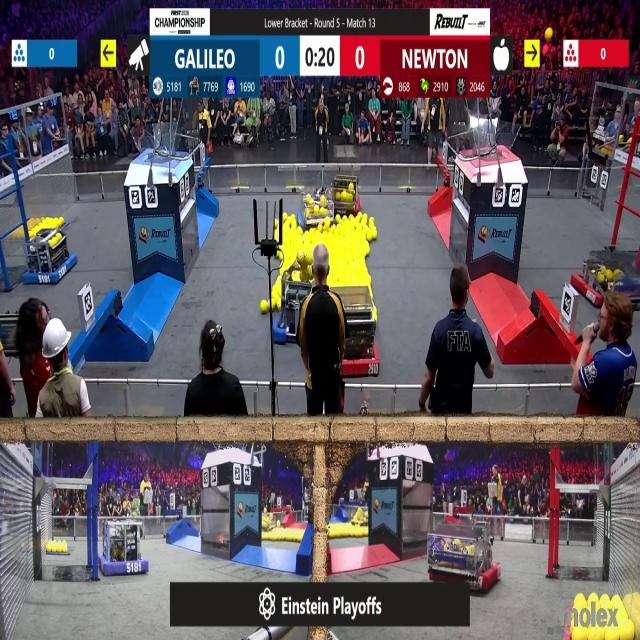ball_airborne: (544, 29, 552, 41), (620, 136, 626, 144)
ball_ground: (259, 302, 267, 314), (274, 300, 282, 311), (369, 228, 376, 240), (571, 630, 579, 640), (324, 216, 329, 228), (272, 284, 278, 294), (364, 246, 369, 256), (289, 214, 295, 221), (295, 227, 301, 234), (368, 216, 373, 224), (275, 219, 280, 227), (275, 231, 280, 239), (337, 215, 342, 223), (362, 214, 367, 222), (0, 344, 4, 353), (283, 213, 288, 220)
goal: (466, 121, 521, 160), (130, 129, 189, 160)
robot_blue: (24, 215, 76, 285), (101, 520, 146, 576), (284, 257, 315, 308), (299, 194, 327, 231), (339, 477, 370, 510)
robot_red: (431, 518, 502, 596), (577, 248, 635, 310), (547, 516, 602, 580), (339, 288, 378, 378), (332, 170, 362, 220)
